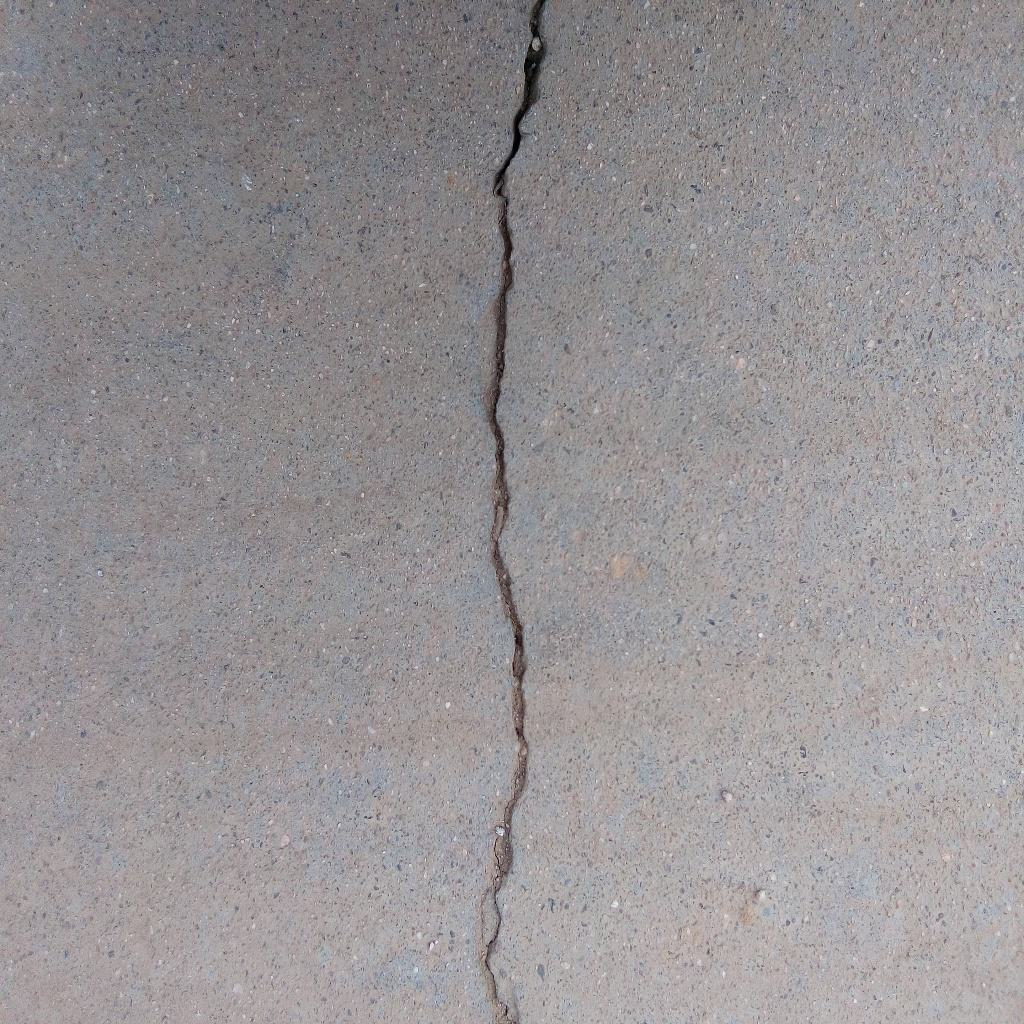Crack: (480, 1, 548, 1024)
